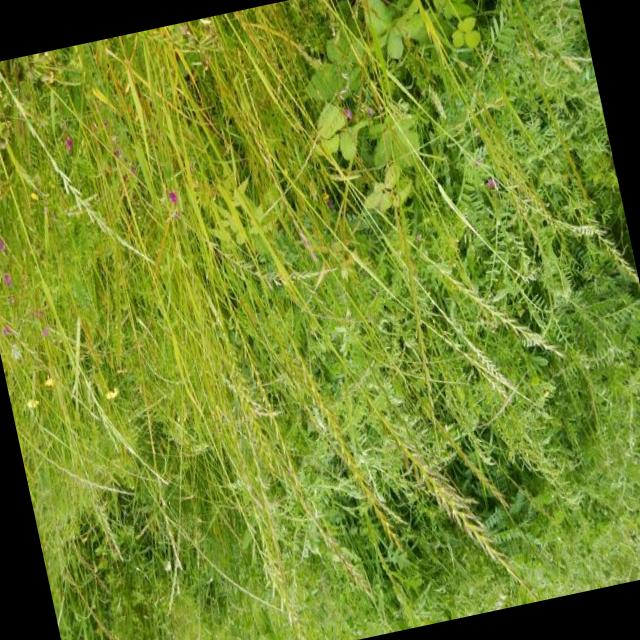Lolium: (0, 0, 640, 640), (208, 77, 498, 606), (237, 0, 557, 398), (109, 110, 288, 636), (0, 39, 149, 284)
